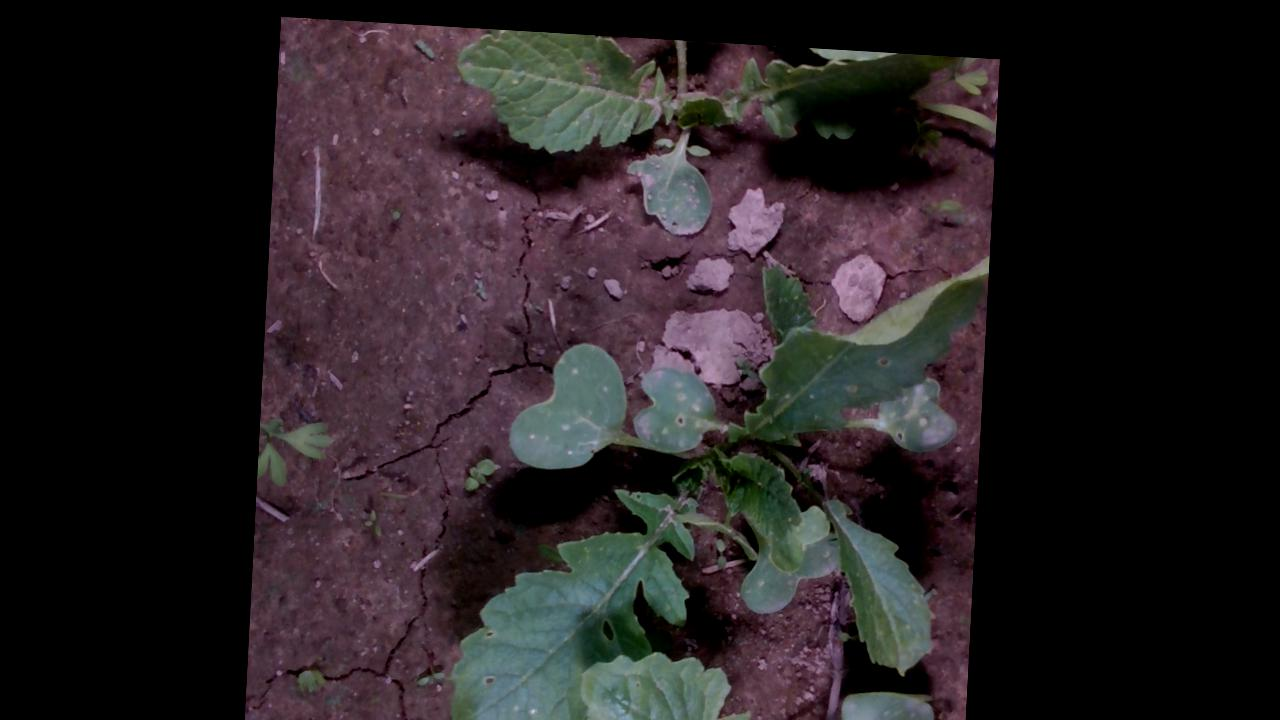weed: (468, 446, 506, 486)
